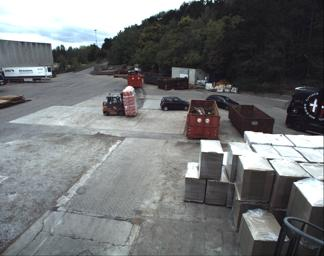rockwool_batts: (121, 85, 138, 114)
